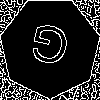G: (25, 22, 72, 76)
